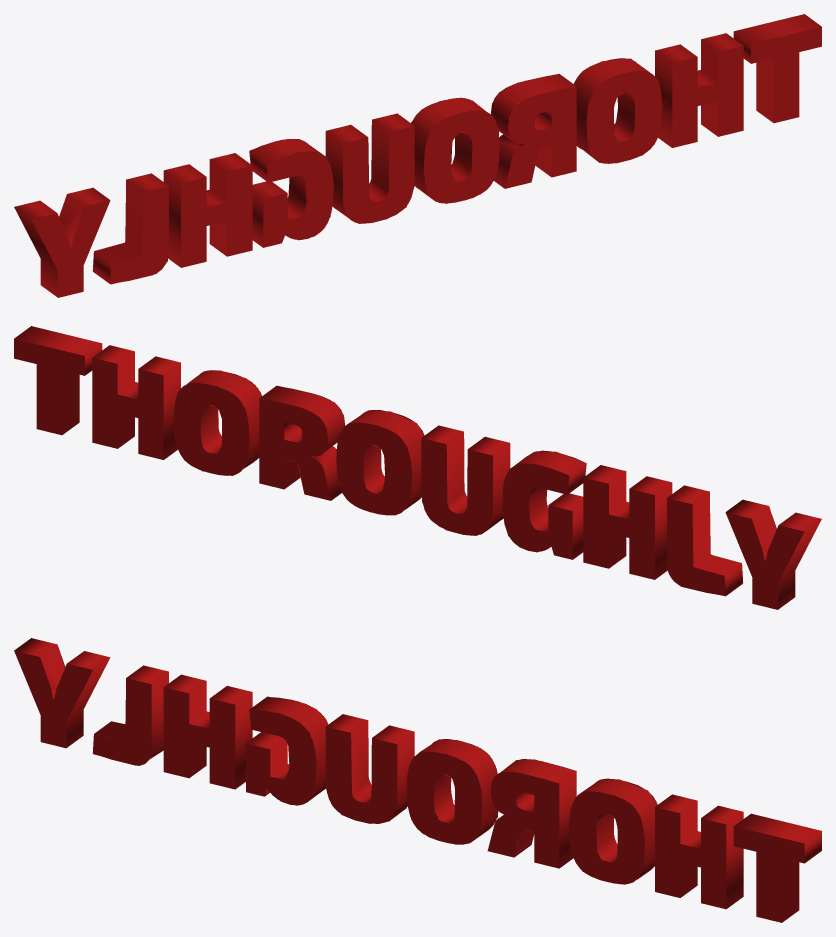
Rendered from thoroughly.fbx.
3 views of the same model, one above another, from view 1: azimuth 30°, elevation 25°; view 2: azimuth 150°, elevation 25°; view 3: azimuth 330°, elevation 25° (orthographic).
Visible parts, largest first — view 1: Text; view 2: Text; view 3: Text.
Part boxes in pixels (left/top/right/bottom): Text: left=14, top=14, right=821, bottom=297; Text: left=14, top=326, right=821, bottom=609; Text: left=14, top=638, right=821, bottom=922.
Bounding box in the file's own units: 21.06 × 2.27 × 0.8.
